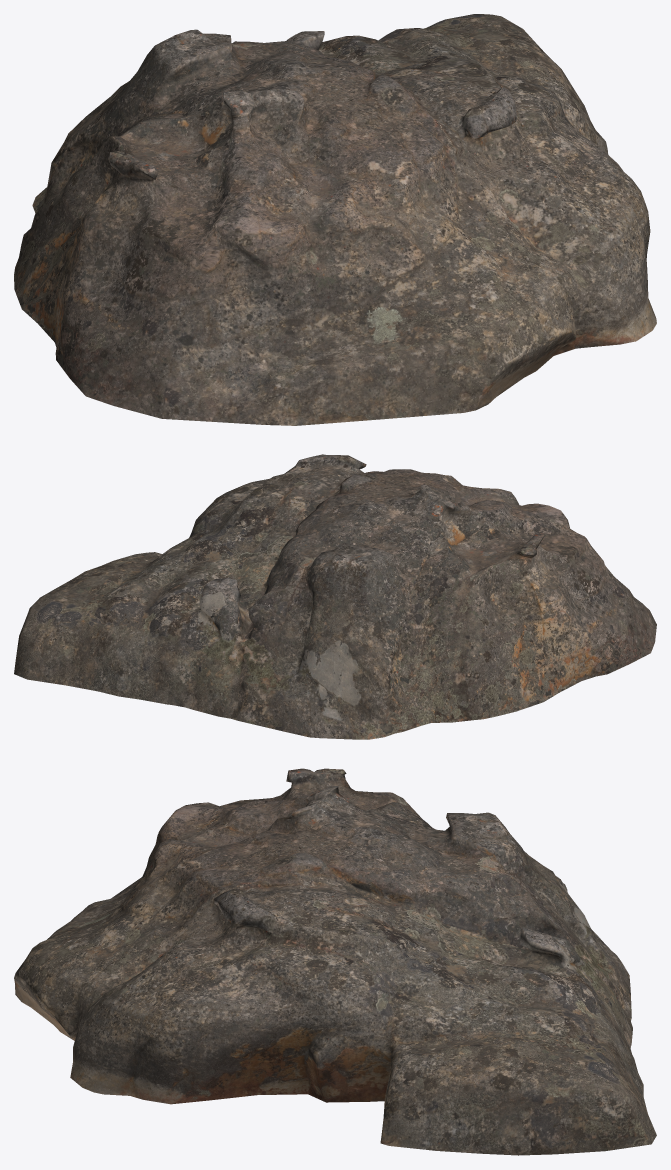
Rendered from SM_yewicc1_tier_2.gltf.
3 renders of one model, top to bottom at view 1: azimuth 30°, elevation 25°; view 2: azimuth 150°, elevation 25°; view 3: azimuth 270°, elevation 25°, orthographic. The views are drawn at different scales.
Visible parts, largest first — view 1: yewicc1_LOD2_TIER2_000; view 2: yewicc1_LOD2_TIER2_000; view 3: yewicc1_LOD2_TIER2_000.
Part boxes in pixels (x1=…): yewicc1_LOD2_TIER2_000: x1=14, y1=14, x2=656, y2=425; yewicc1_LOD2_TIER2_000: x1=14, y1=454, x2=656, y2=739; yewicc1_LOD2_TIER2_000: x1=14, y1=768, x2=656, y2=1155.
Bounding box in the file's own units: 2 × 0.6002 × 1.94.
Materials: 1 (1 with a texture image).
